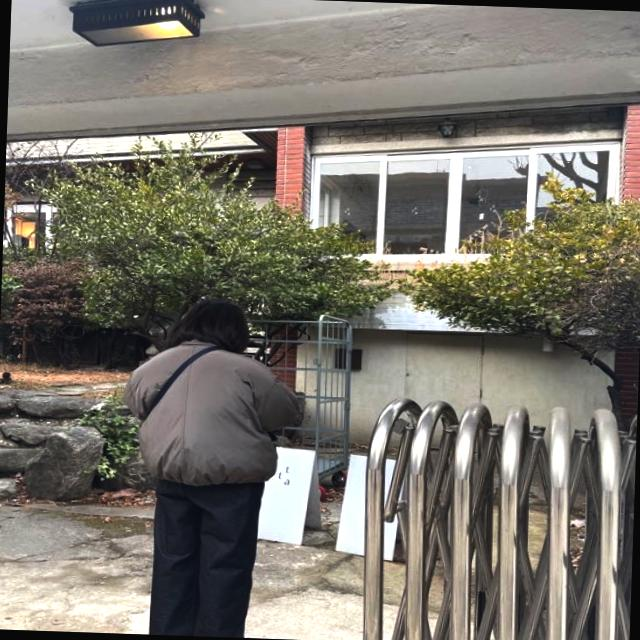cottonpants: (148, 472, 260, 638)
padding: (121, 339, 305, 490)
